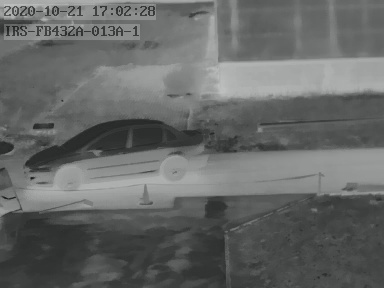vehicle: (22, 116, 205, 191)
